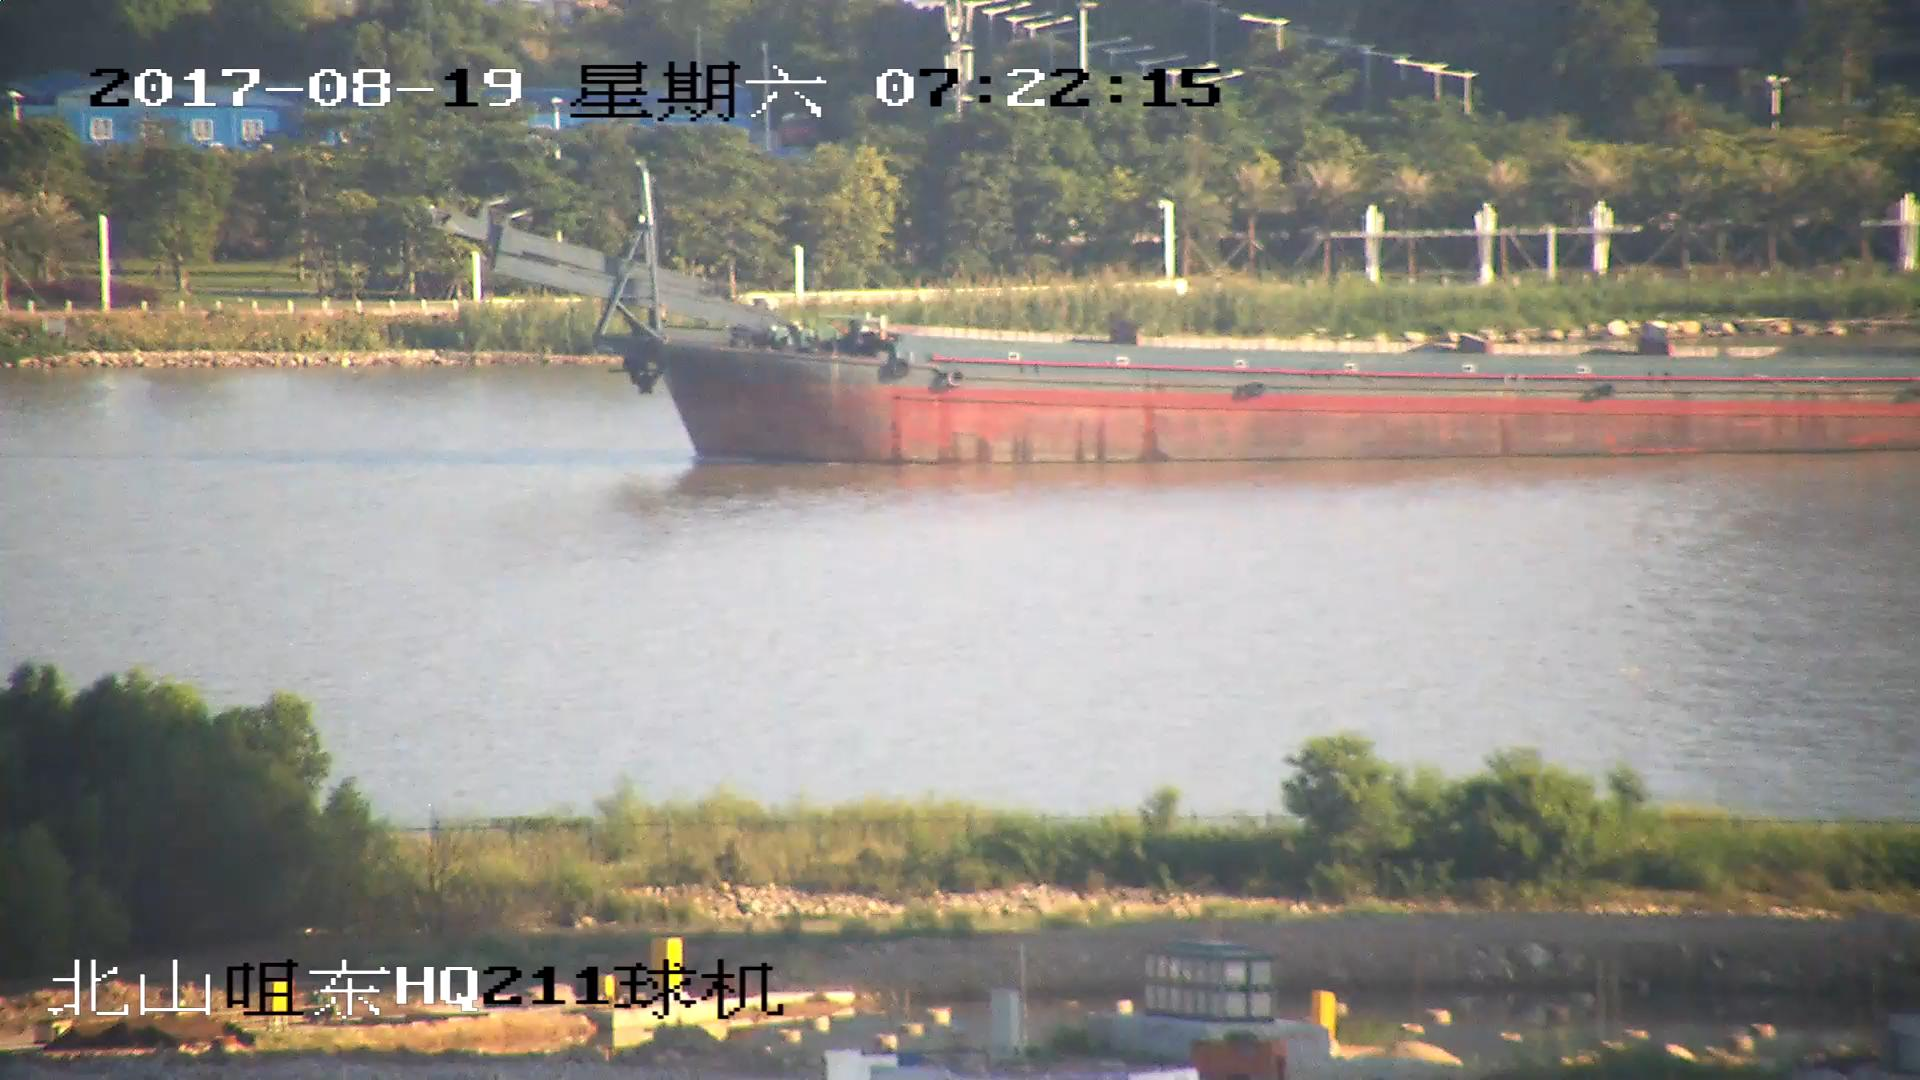bulk cargo carrier: (447, 173, 1920, 465)
